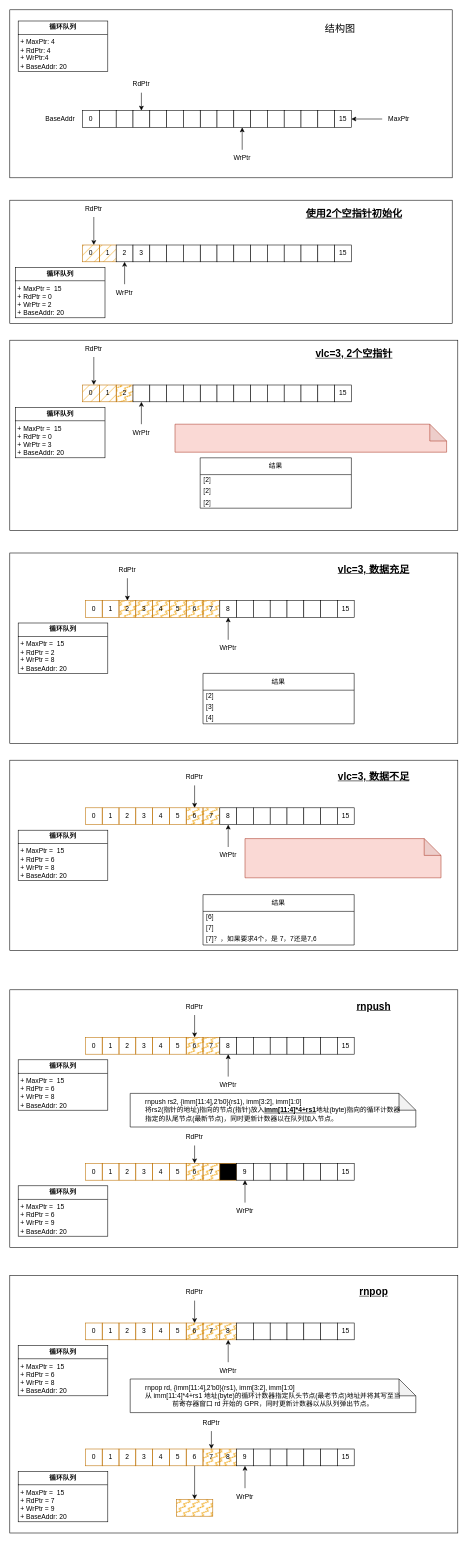
This 468x1543 diagram has some shape labels left out. Here are the shapes that lost their labels. From the top down, the centre of each, then its label:
At point (310, 438): "向前扩展：遇到假指针，会把后面的指针（有效的）复制过来".
At point (342, 858): "向后扩展： 复制读到的指针".
At point (194, 1507): "RD".
